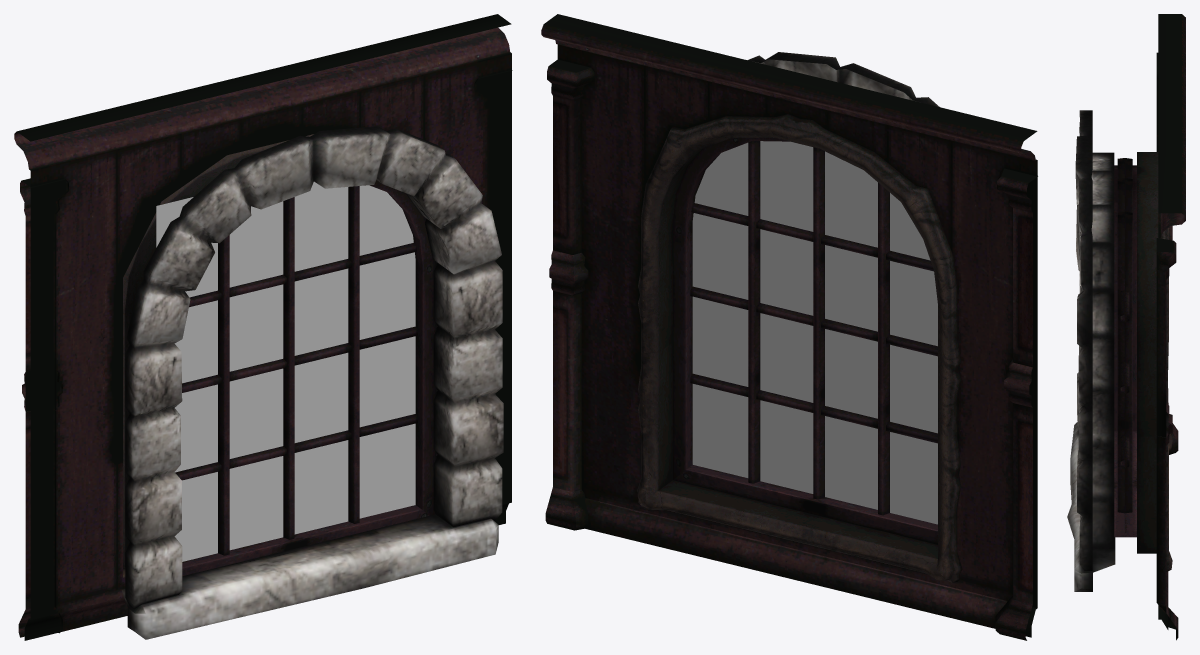
File: 42_window_large_blue_seethrough.dae
The picture shows the model from 3 angles, left to right: view 1: azimuth 30°, elevation 25°; view 2: azimuth 150°, elevation 25°; view 3: azimuth 270°, elevation 25°; orthographic projection. The views are drawn at different scales.
Parts seen in each view (by area): view 1: polySurface679, polySurface682, polySurface639, polySurface680, polySurface640; view 2: polySurface679, polySurface680, polySurface682, polySurface639; view 3: polySurface680, polySurface639, polySurface679, polySurface640.
Boxes of the visible parts, <box> form: polySurface679: <box>14,14,512,640</box>; polySurface682: <box>156,181,415,561</box>; polySurface639: <box>125,126,503,609</box>; polySurface680: <box>123,134,436,577</box>; polySurface640: <box>121,514,498,639</box>; polySurface679: <box>541,14,1037,640</box>; polySurface680: <box>637,114,962,582</box>; polySurface682: <box>692,141,937,524</box>; polySurface639: <box>747,52,939,106</box>; polySurface680: <box>1114,152,1172,572</box>; polySurface639: <box>1075,110,1114,570</box>; polySurface679: <box>1156,14,1185,640</box>; polySurface640: <box>1067,422,1115,591</box>.
Bounding box in the file's own units: 4 × 4 × 1.01.
